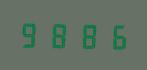eight: (72, 19, 98, 50), (45, 19, 71, 49)
nine: (18, 19, 44, 49)
six: (99, 20, 125, 50)
